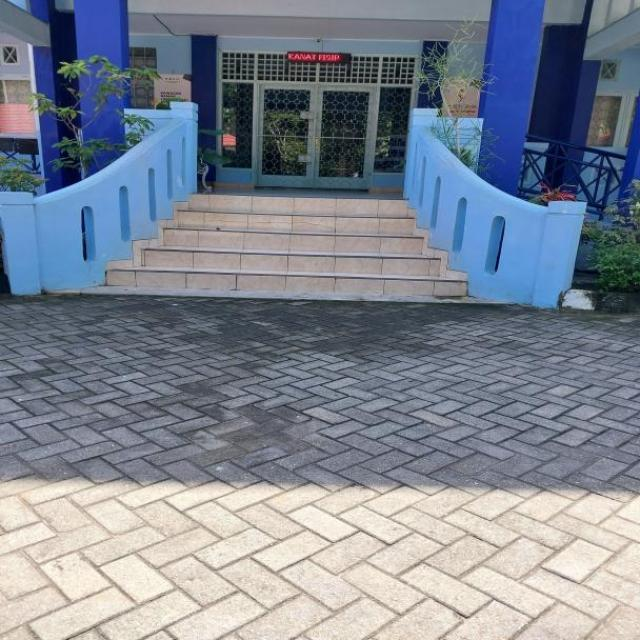stairs ahead at: (114, 193, 466, 292)
